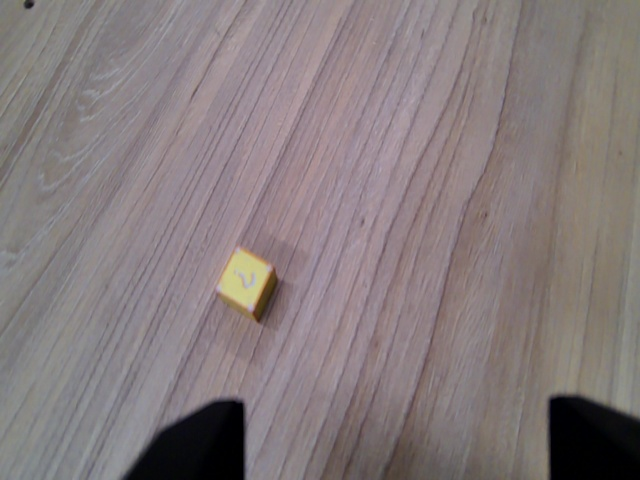lucky: (210, 242, 280, 325)
